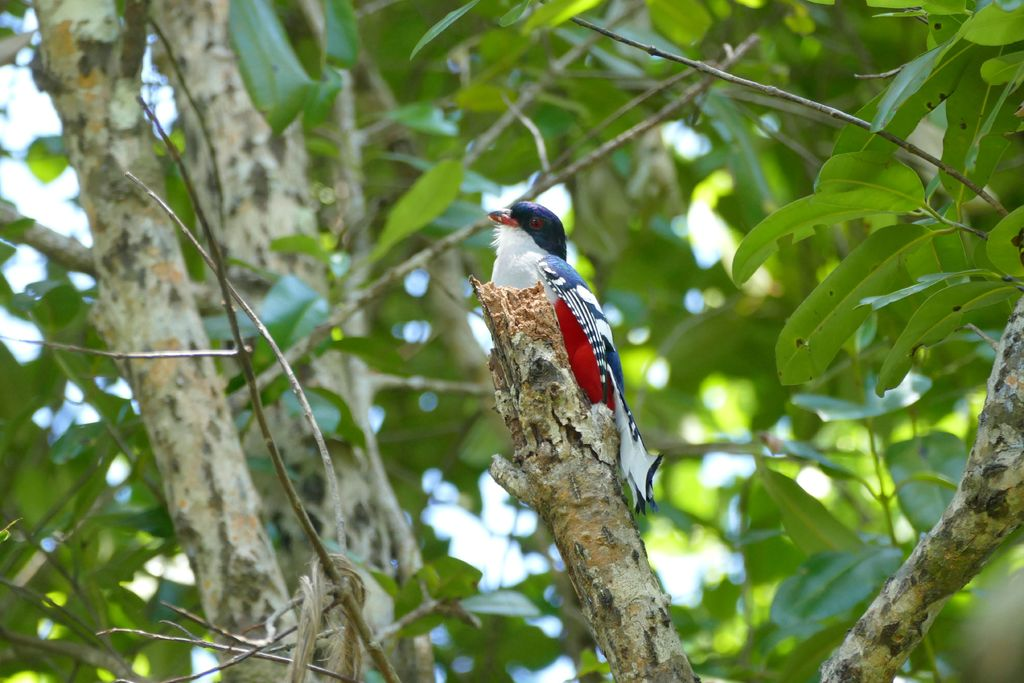person: (455, 200, 650, 469)
